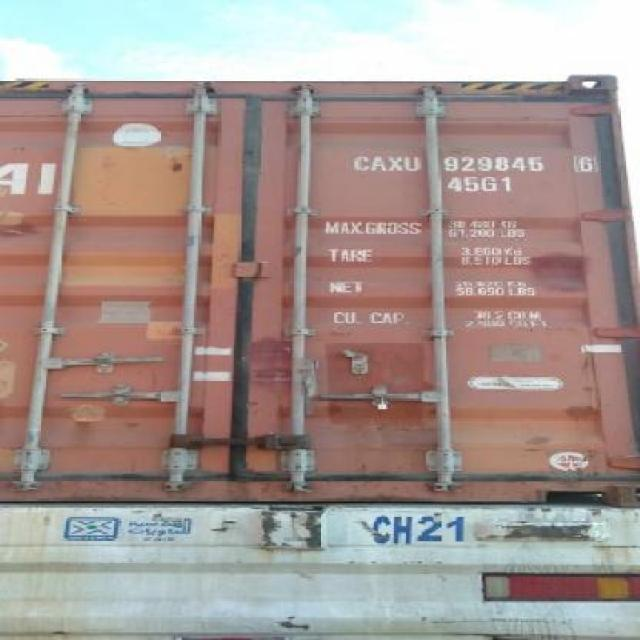ISO: (448, 173, 519, 196)
container_number: (354, 151, 602, 174)
